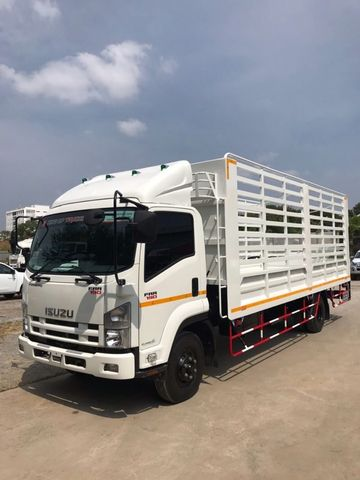truck: (17, 162, 211, 408)
